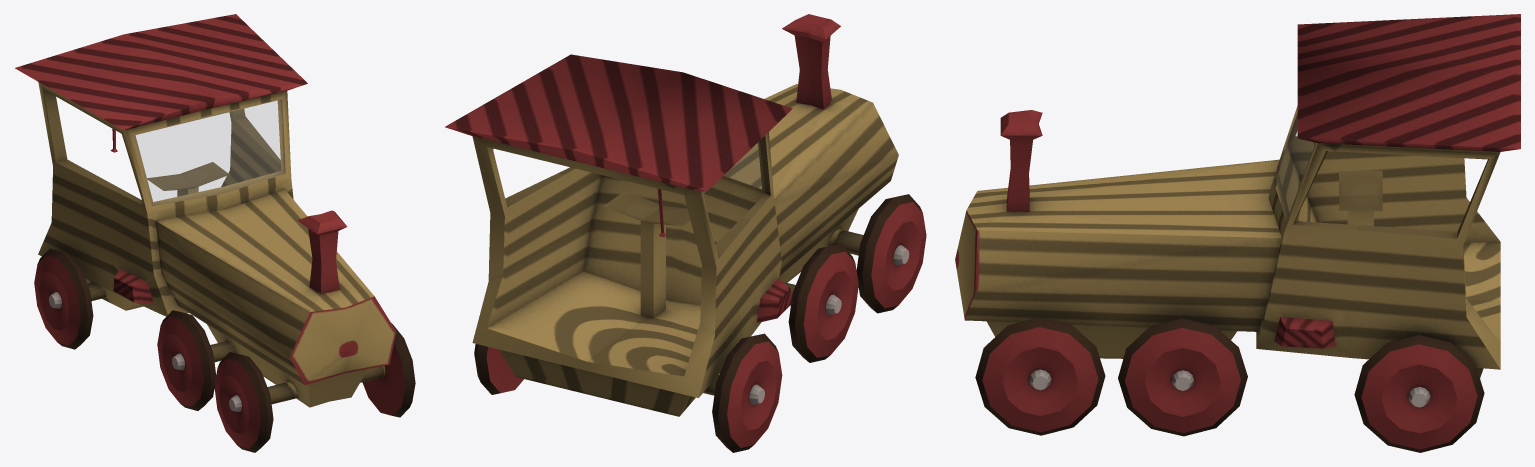
3 renders of one model, left to right at view 1: azimuth 30°, elevation 25°; view 2: azimuth 150°, elevation 25°; view 3: azimuth 270°, elevation 25°, orthographic. The views are drawn at different scales.
Parts seen in each view (by area): view 1: Body_Material #30_0, glass_Material #29_0, Front-Left_Material #30_0, Back_right_Material #30_0, Middle-Left_Material #30_0, Front-Right_Material #30_0; view 2: Body_Material #30_0, Back_right_Material #30_0, Front-Left_Material #30_0, Middle-Left_Material #30_0, Back_left_Material #30_0, glass_Material #29_0; view 3: Body_Material #30_0, Back_left_Material #30_0, Front-Right_Material #30_0, Middle-Right_Material #30_0, glass_Material #29_0.
Part boxes in pixels (x1,y1,x2,y2): Body_Material #30_0: (15,14,396,407); glass_Material #29_0: (134,100,284,205); Front-Left_Material #30_0: (214,352,273,452); Back_right_Material #30_0: (34,248,93,349); Middle-Left_Material #30_0: (157,310,216,410); Front-Right_Material #30_0: (362,323,415,417); Body_Material #30_0: (445,14,898,416); Back_right_Material #30_0: (712,333,782,452); Front-Left_Material #30_0: (856,194,926,313); Middle-Left_Material #30_0: (788,244,858,362); Back_left_Material #30_0: (474,344,523,394); glass_Material #29_0: (724,143,761,188); Body_Material #30_0: (955,14,1520,385); Back_left_Material #30_0: (1354,334,1484,452); Front-Right_Material #30_0: (975,317,1105,435); Middle-Right_Material #30_0: (1118,318,1247,436); glass_Material #29_0: (1274,110,1313,220).
Bounding box in the file's own units: 308 × 336 × 535.
Materials: 2 (2 with a texture image).
